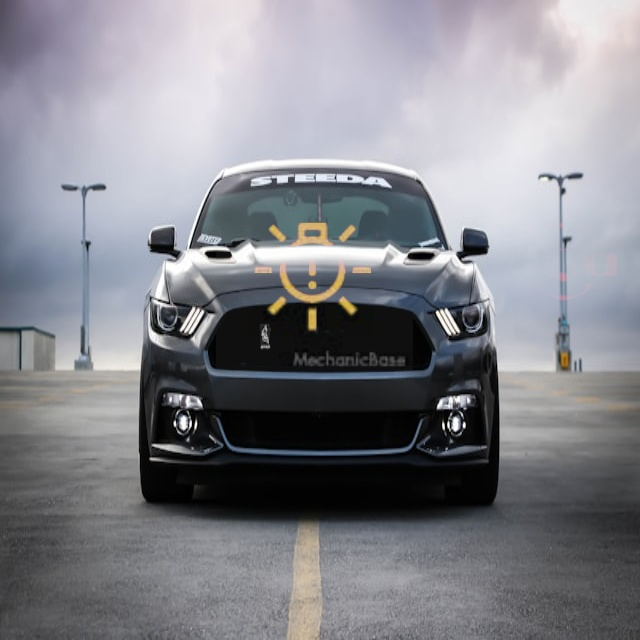symbol: (216, 179, 413, 376), (509, 199, 636, 326)
